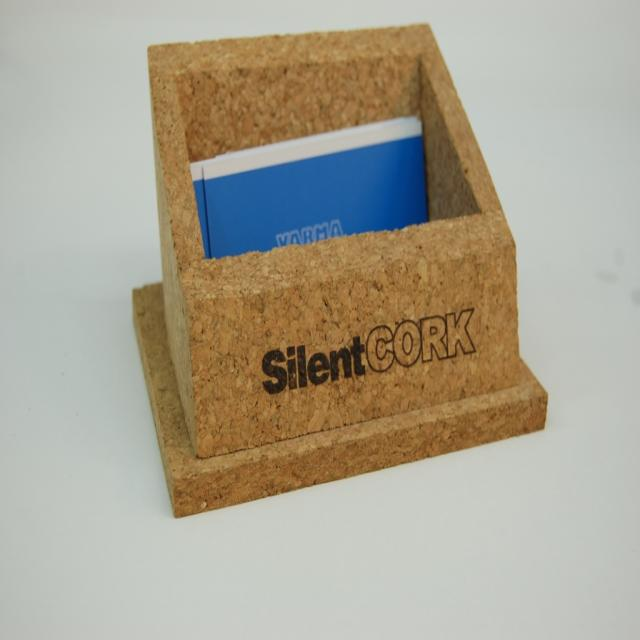Box: (132, 22, 548, 518)
